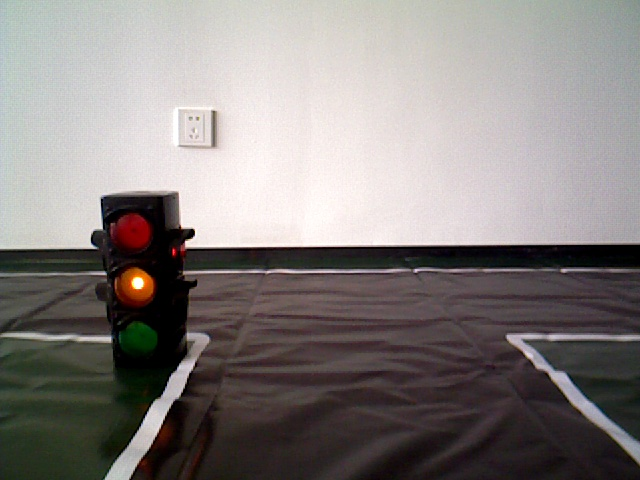yellow: (99, 189, 191, 362)
